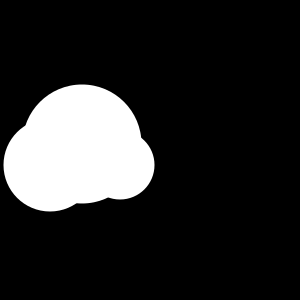rectangle: (22, 84, 142, 204), (3, 118, 96, 212), (86, 131, 154, 200)
